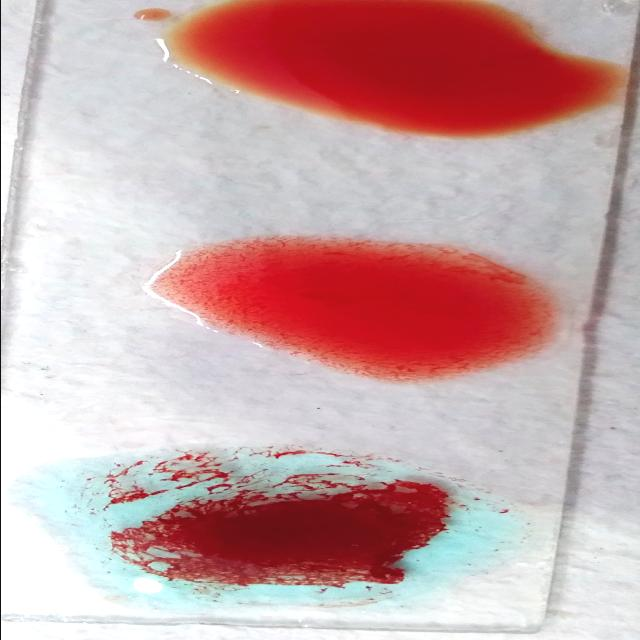A: (51, 456, 528, 607)
D: (171, 239, 561, 366)
